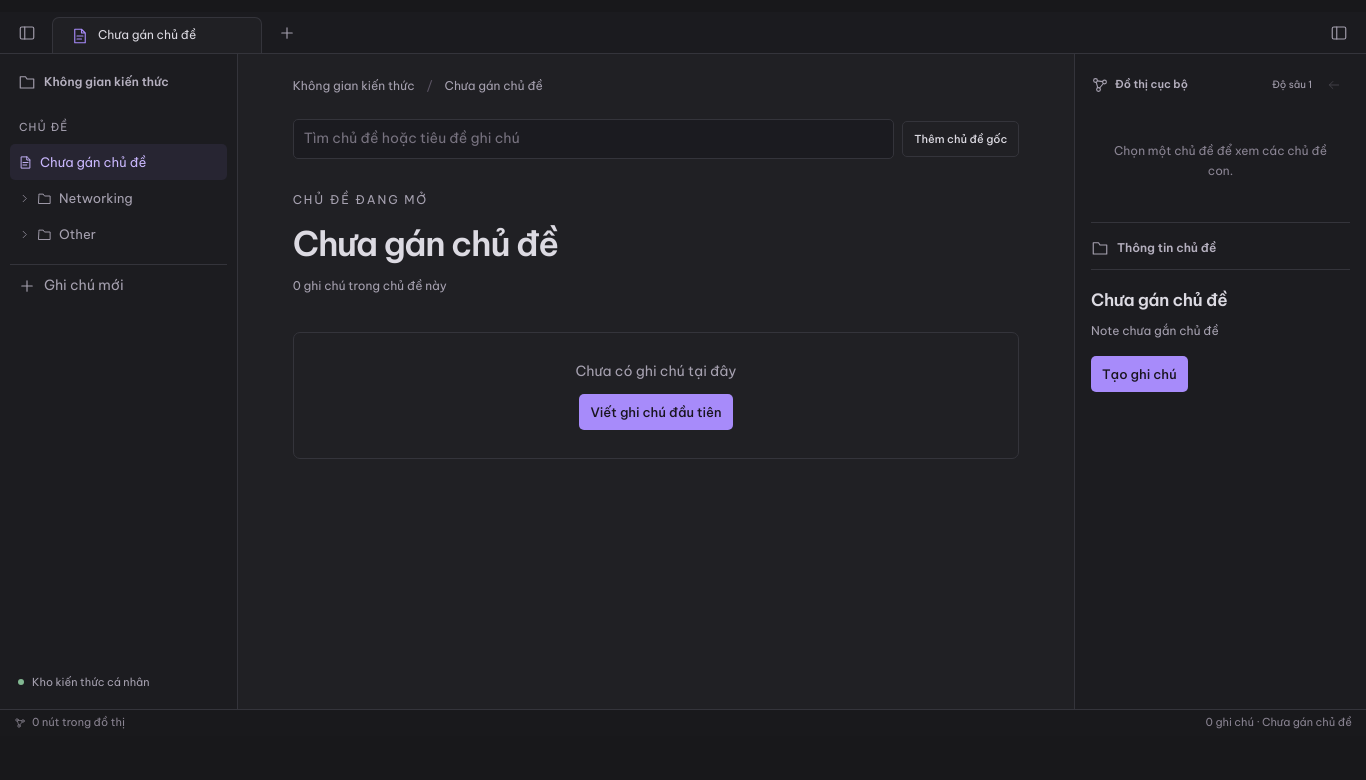
Test: HomePage explorer › shows note content in the center and only the selected topic and children in the right graph
What coordinates should you click on to do the following:
click the button with aria-label "Mở chủ đề Networking"
I would click on:
 (118, 198)
Its box is x1=10 y1=180 x2=227 y2=216.
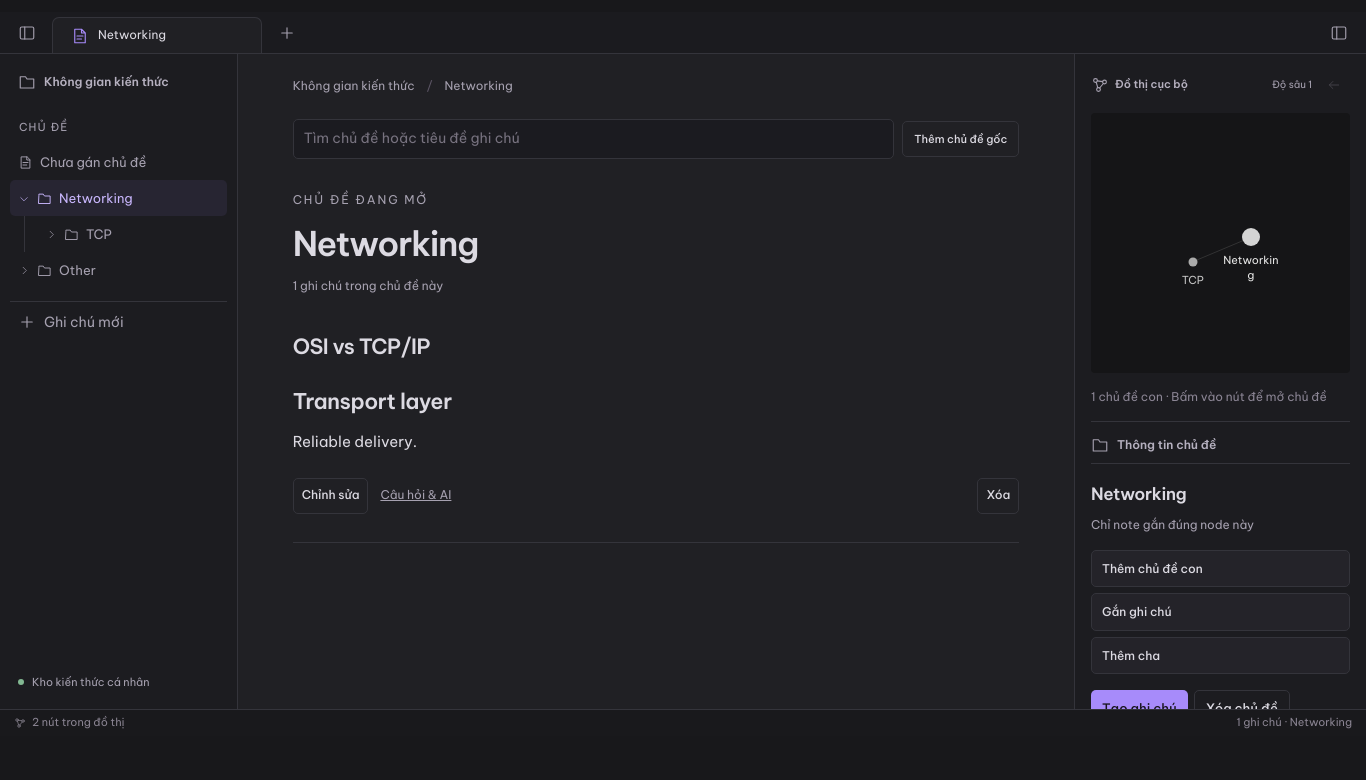
Expected: the text "Reliable delivery." is shown, x1=293 y1=432 x2=417 y2=451
Expected: the button "TCP" below "Đồ thị cục bộ" is shown
Expected: the button "Networking" below "Đồ thị cục bộ" is shown, x1=1233 y1=219 x2=1269 y2=255
What coordinates should you click on to do the following:
click the button "TCP" below "Đồ thị cục bộ"
I would click on:
 (1193, 262)
Its box is x1=1175 y1=244 x2=1211 y2=280.
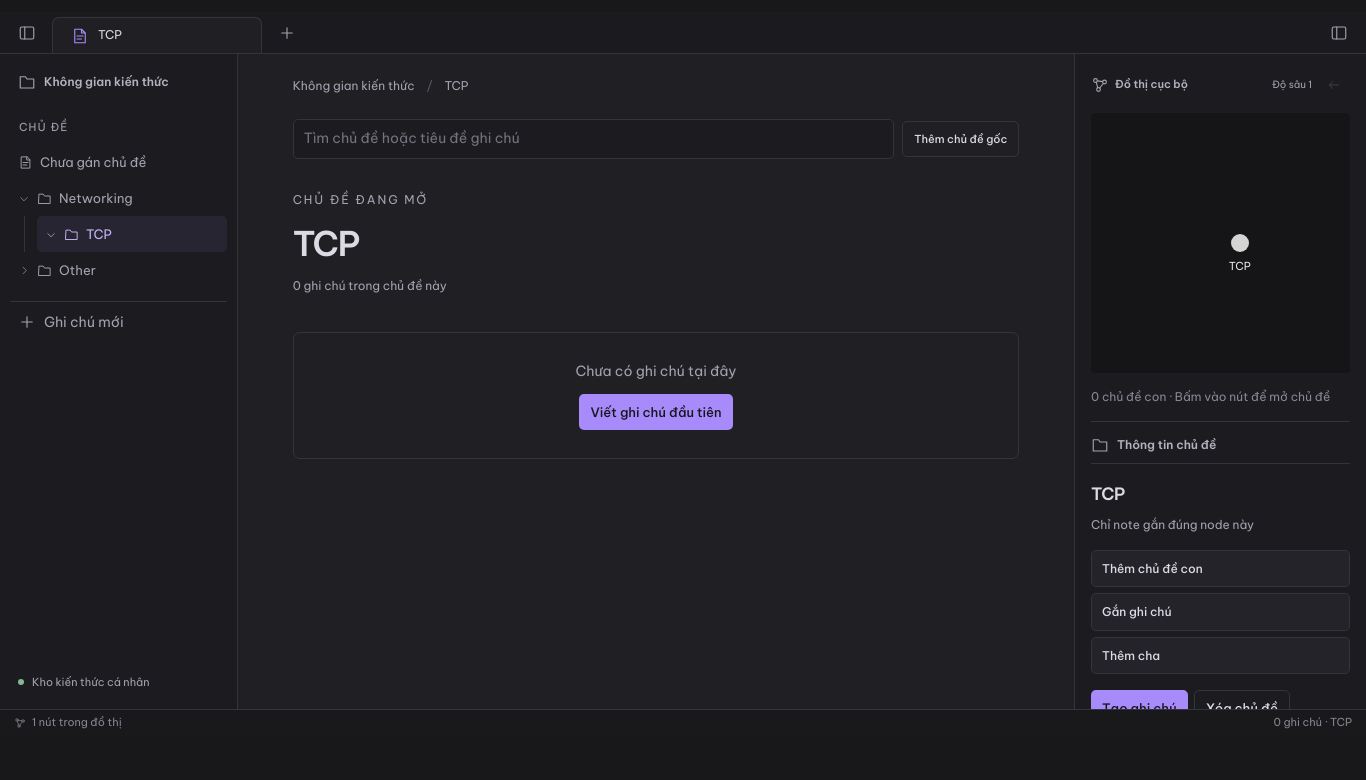
Expected: the text "Reliable delivery." is gone
